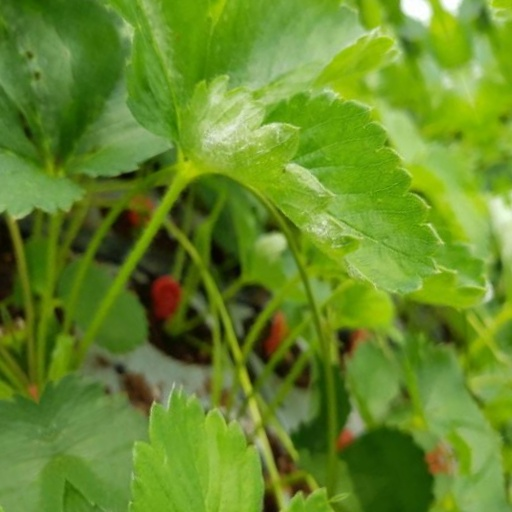Powdery Mildew Leaf: (223, 70, 438, 346)
